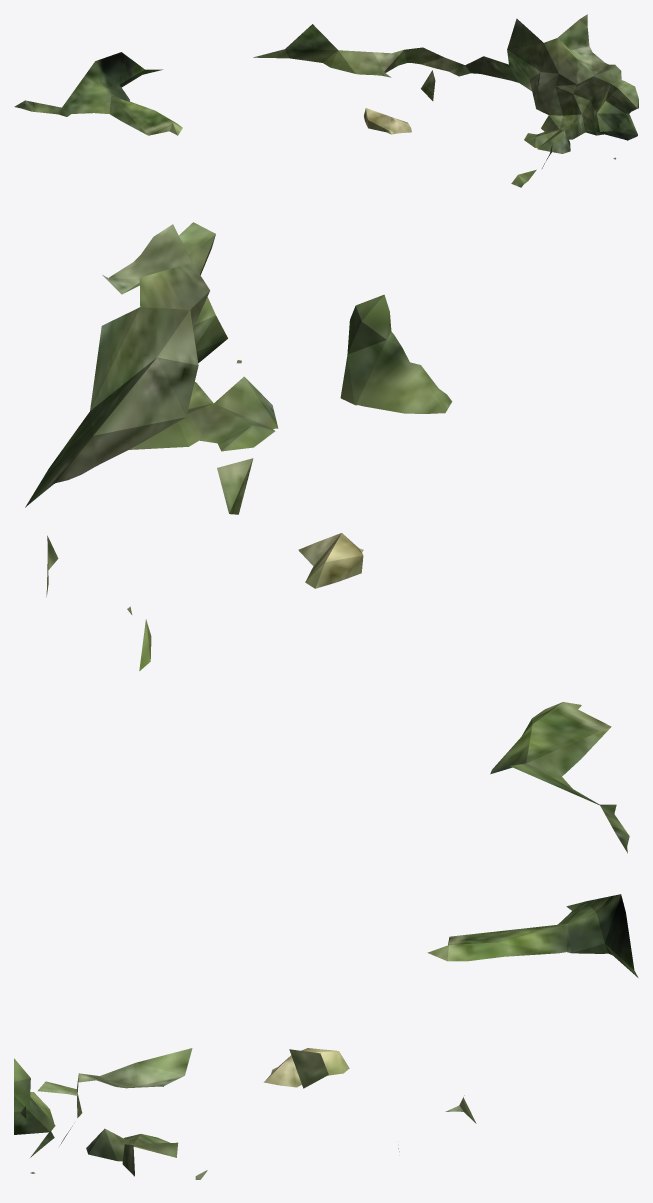
3 renders of one model, top to bottom at view 1: azimuth 30°, elevation 25°; view 2: azimuth 150°, elevation 25°; view 3: azimuth 270°, elevation 25°, orthographic. The views are drawn at different scales.
Size of the model in its own units: 69.06 by 16.3 by 60.07.
Materials: 1 (1 with a texture image).
